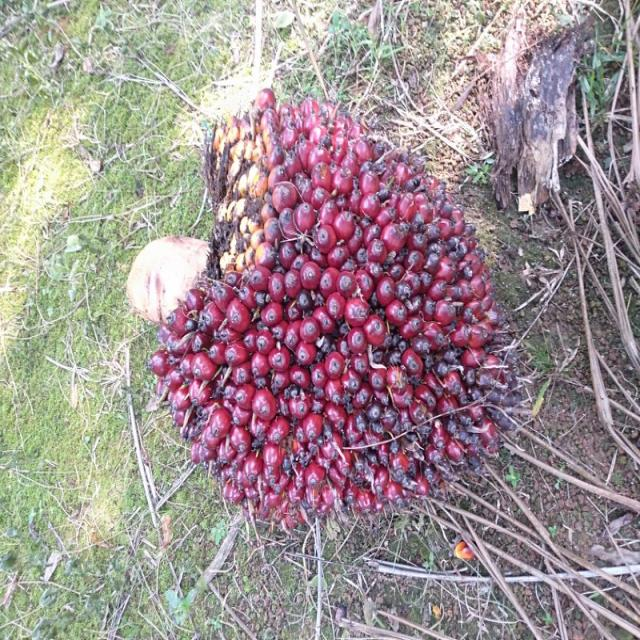fraksi 1: (90, 72, 540, 551)
